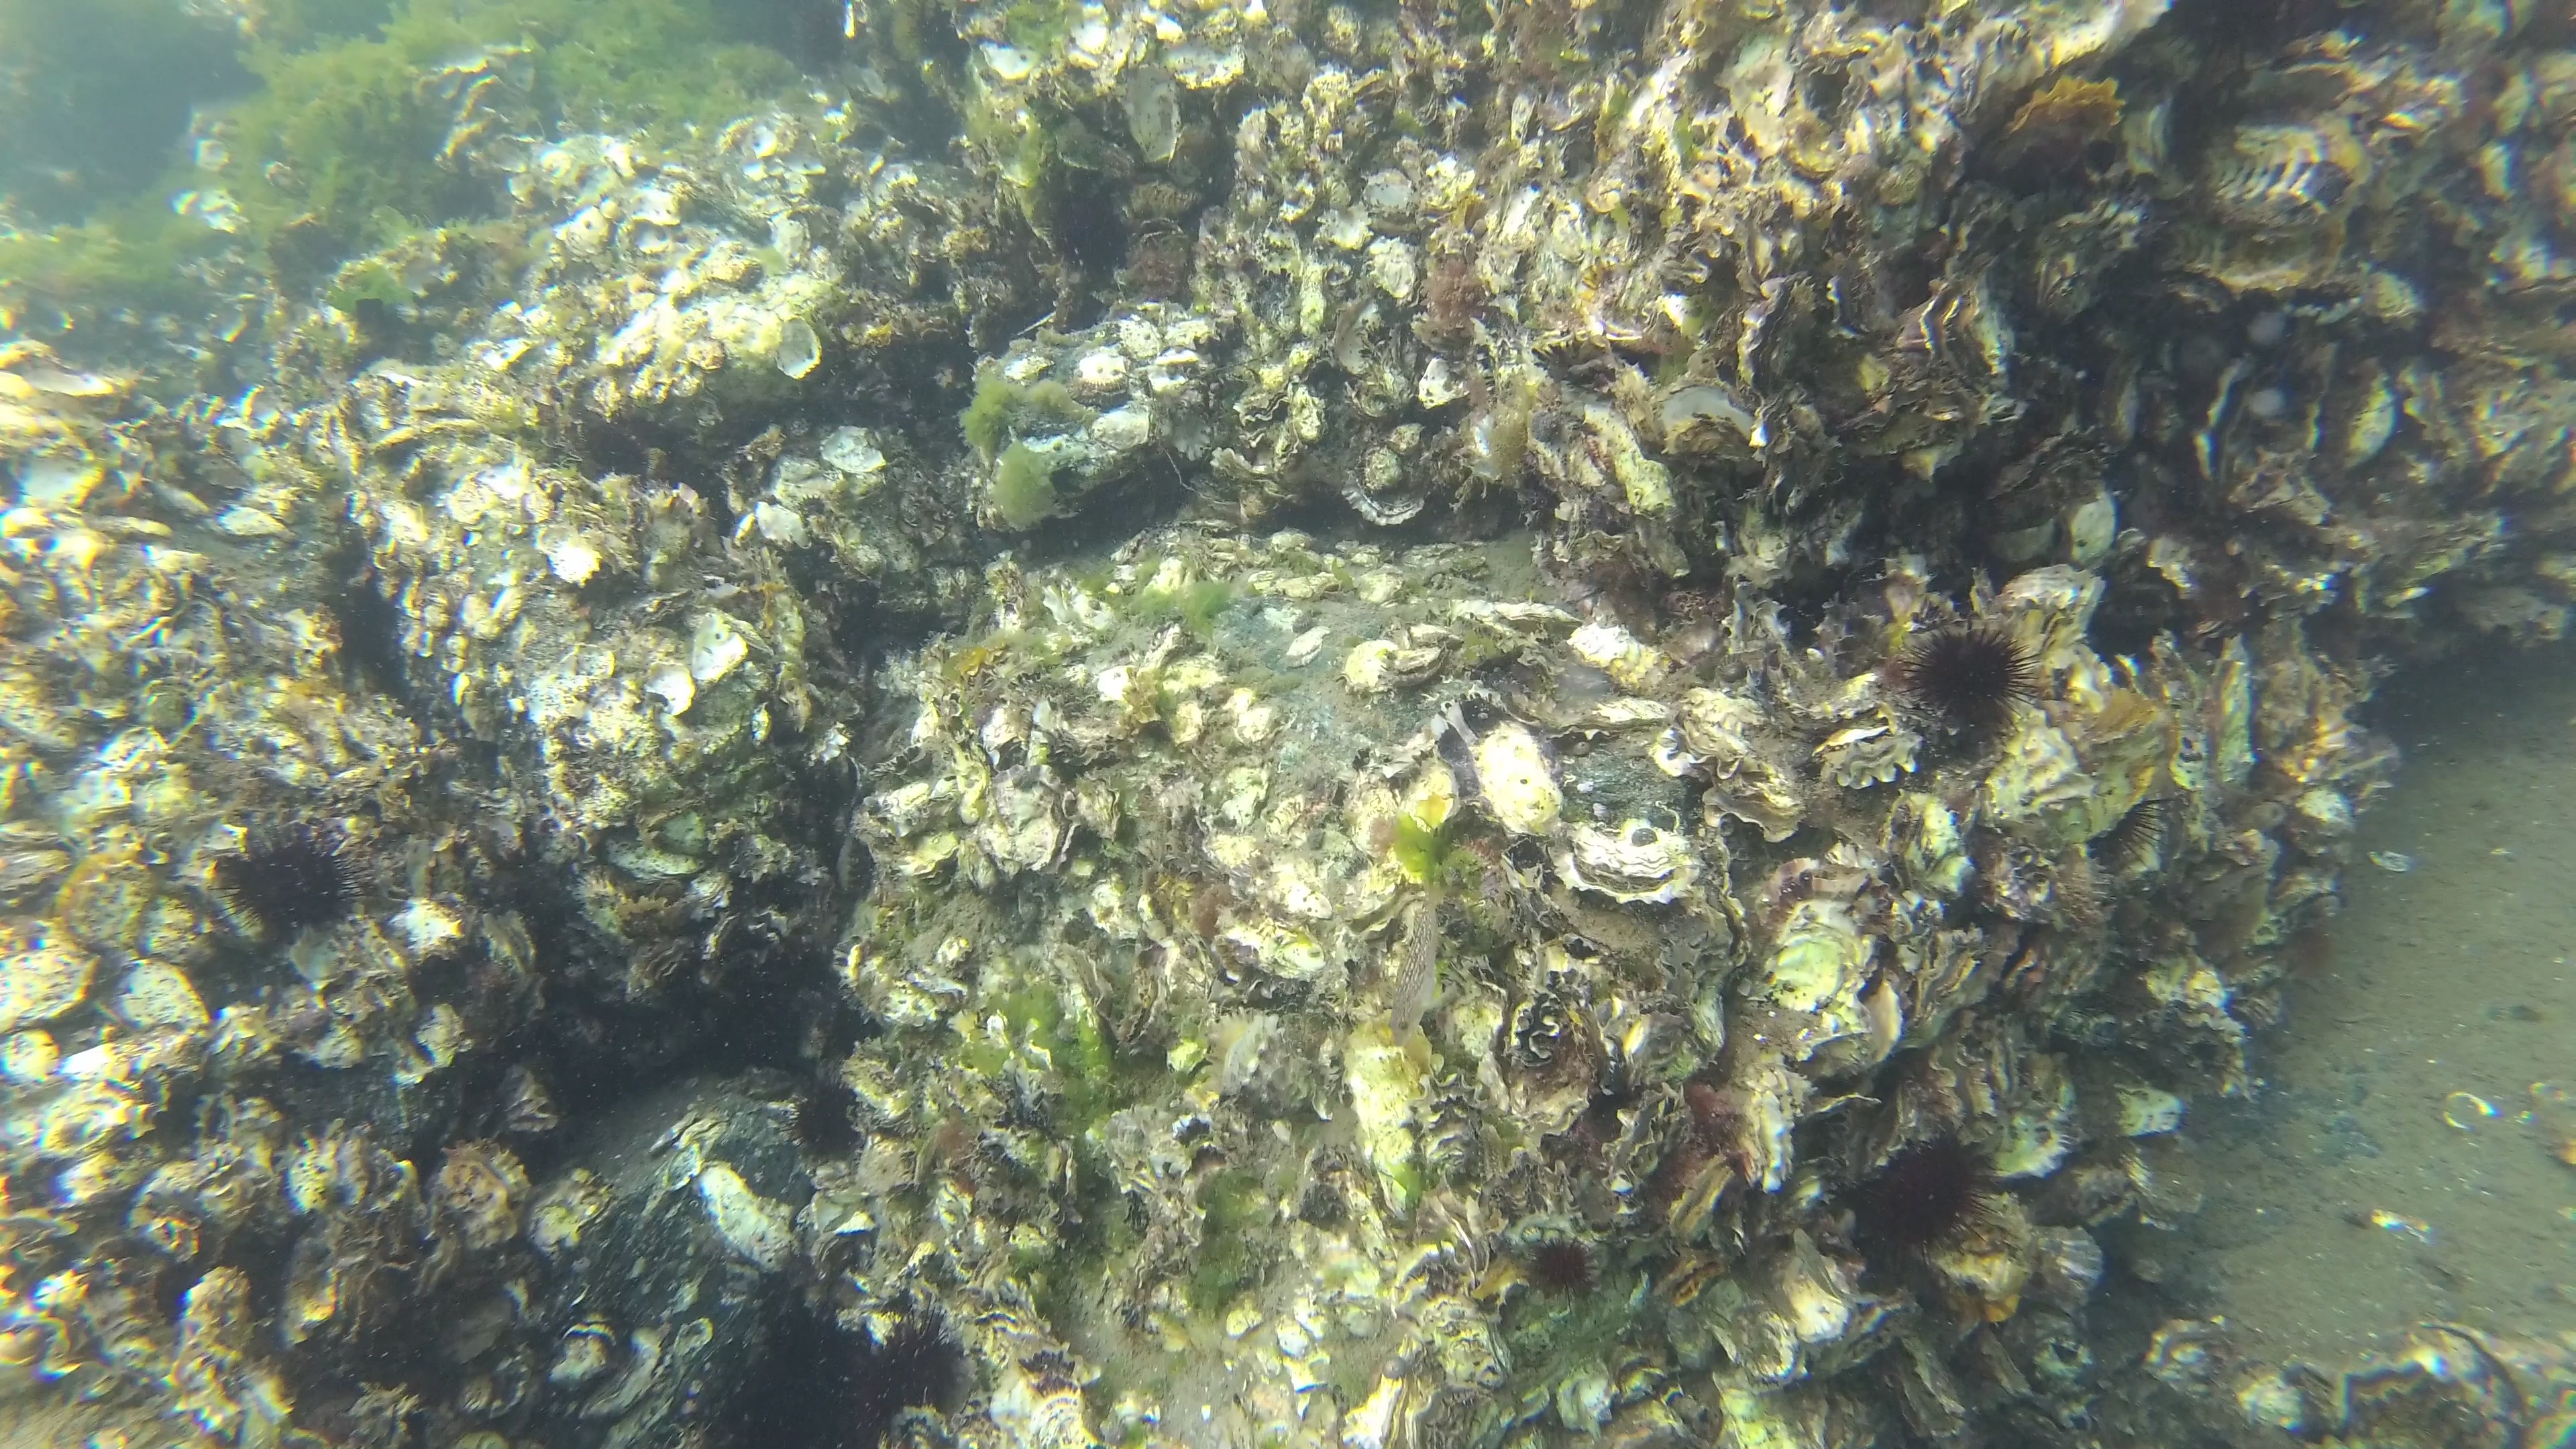echinus: (1840, 1118, 2006, 1281), (207, 817, 375, 961), (1891, 605, 2033, 748), (867, 1299, 973, 1408), (784, 1070, 879, 1166)
